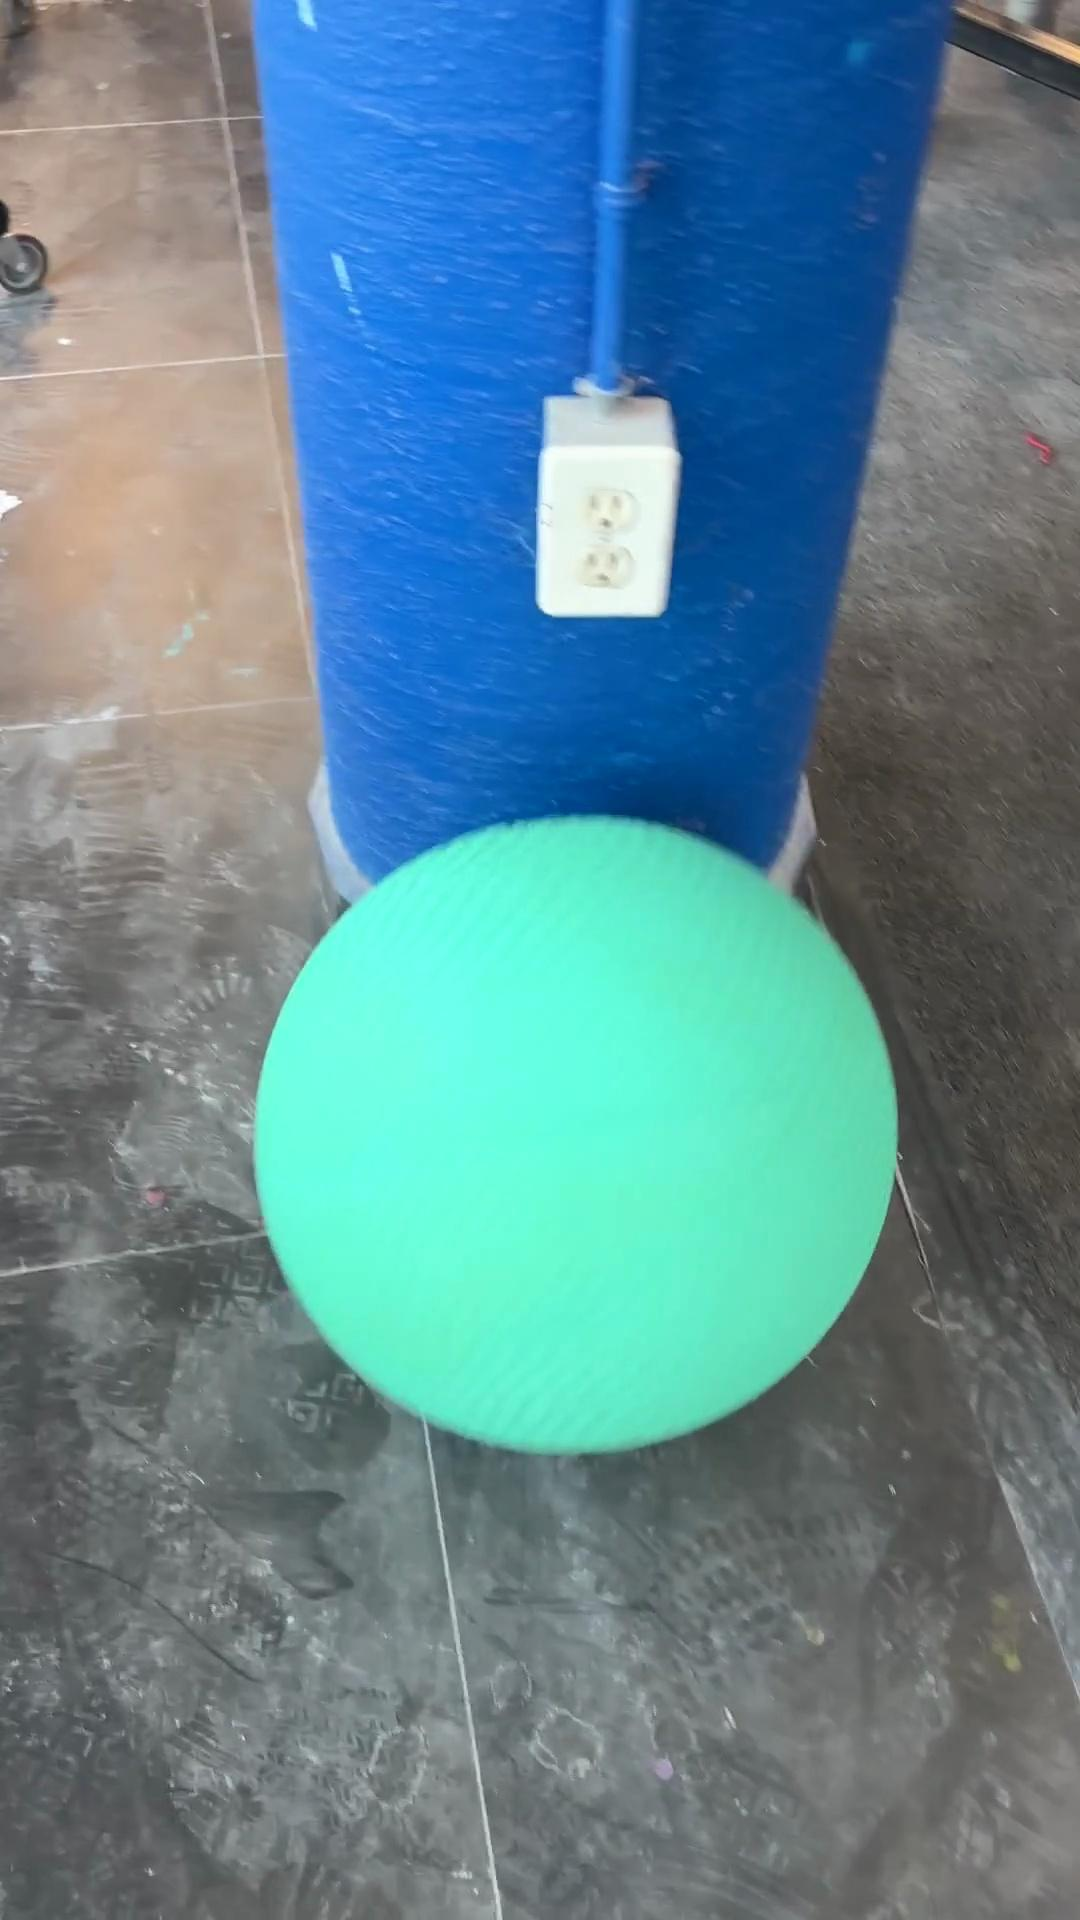ALGAE: (251, 810, 901, 1458)
